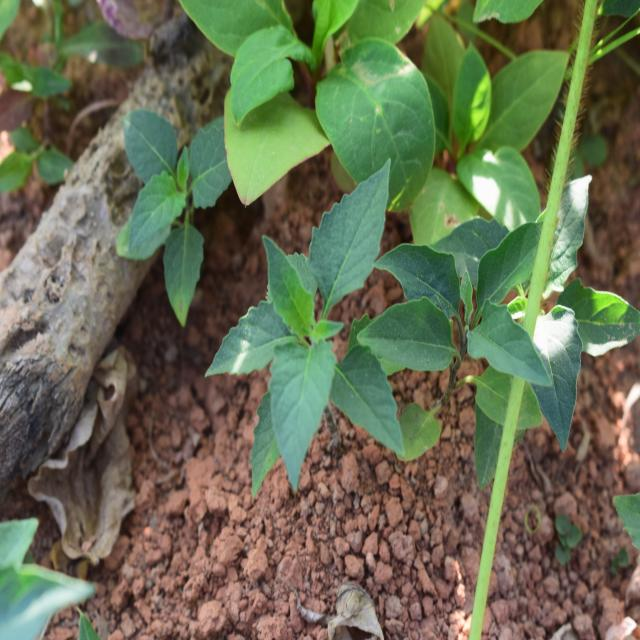Black_nightshade: (196, 185, 396, 472), (388, 209, 545, 419), (129, 98, 232, 327)
